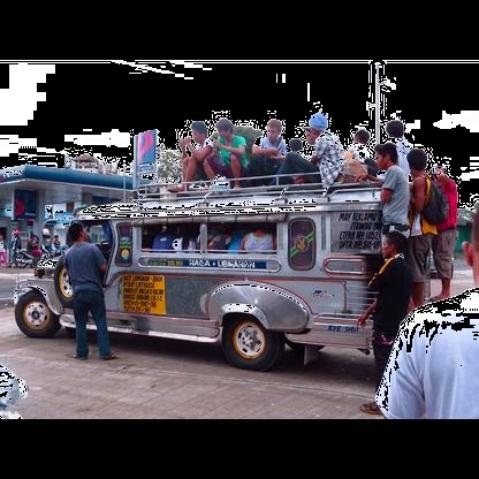jeepney: (13, 180, 434, 366)
